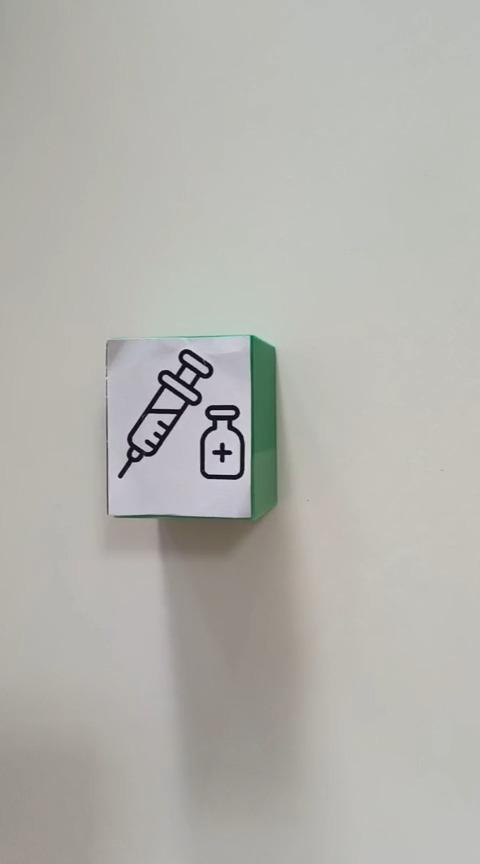antiseptic cream: (105, 334, 278, 522)
